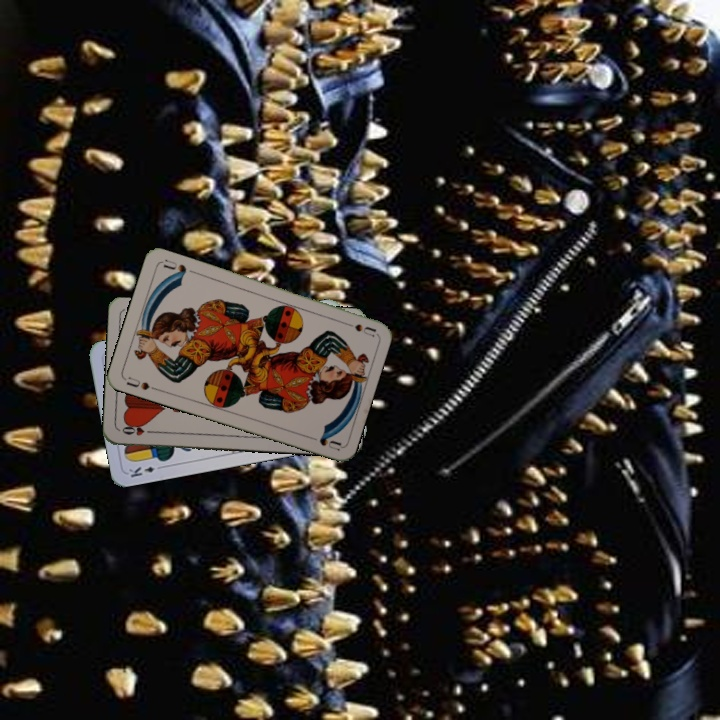EK: (125, 461, 166, 480)
HO: (118, 422, 158, 438)
SU: (337, 317, 378, 339), (121, 372, 161, 393)
